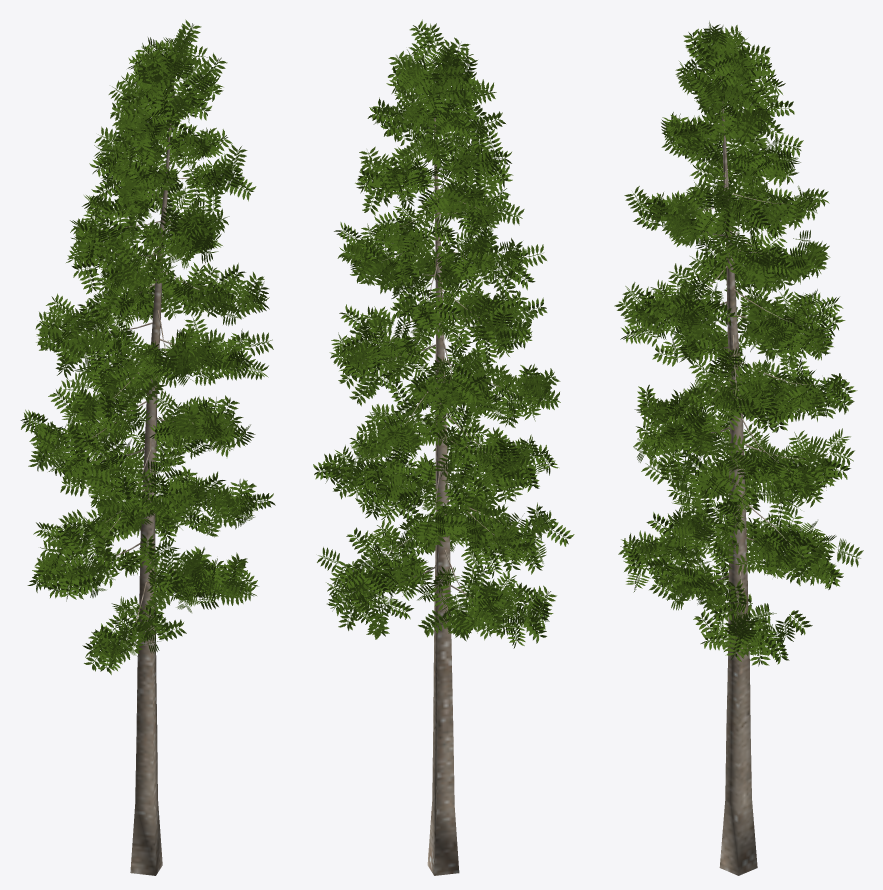
File: DamarTree_002.fbx
The picture shows the model from 3 angles, left to right: view 1: azimuth 30°, elevation 25°; view 2: azimuth 150°, elevation 25°; view 3: azimuth 270°, elevation 25°; orthographic projection. The views are drawn at different scales.
Visible parts, largest first — view 1: DamarTree.002; view 2: DamarTree.002; view 3: DamarTree.002.
Boxes of the visible parts, <box> form: DamarTree.002: <box>20,19,275,875</box>; DamarTree.002: <box>313,19,574,875</box>; DamarTree.002: <box>614,21,863,875</box>.
Size of the model in its own units: 747 by 2523 by 689.
Materials: 2 (2 with a texture image).
